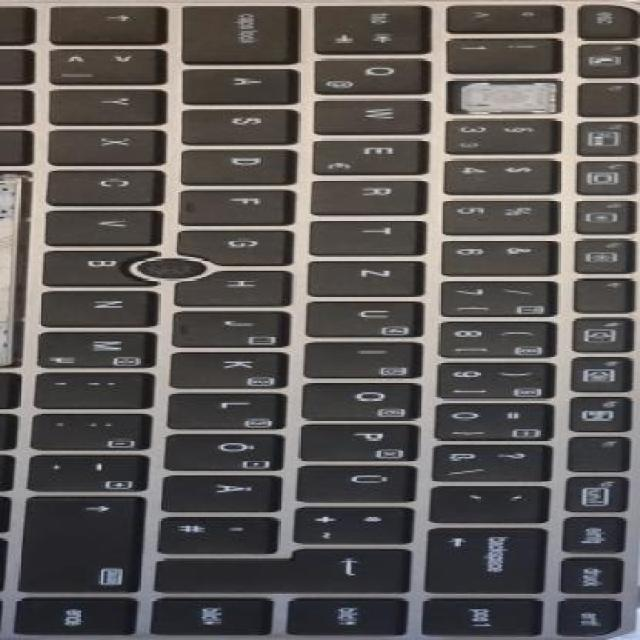Keyboard problems: (448, 82, 558, 112)
